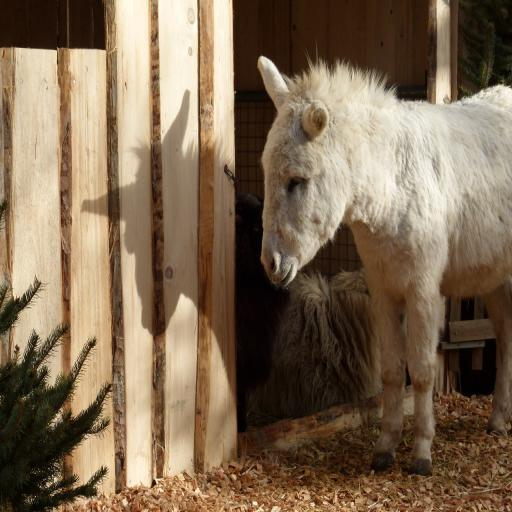horse: (260, 54, 512, 478), (262, 268, 376, 418)
